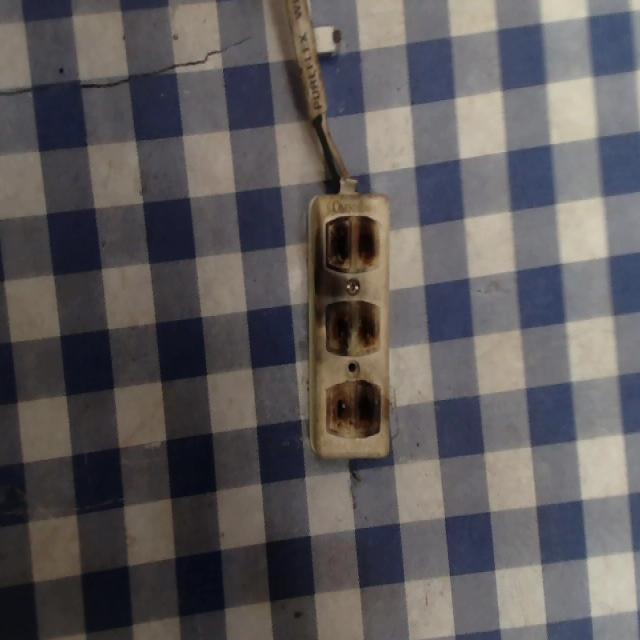-: (320, 209, 382, 275), (320, 293, 383, 355), (323, 375, 380, 440)
